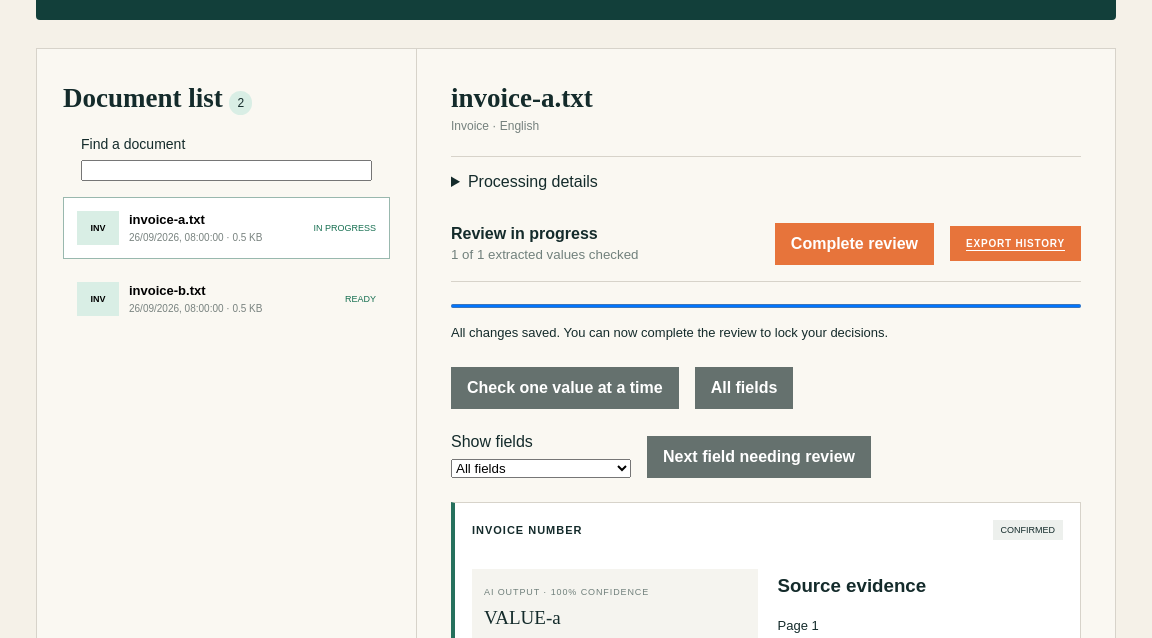
Test: document selection isolates asynchronous review work › ignores a delayed review selection after a newer document has loaded
The width and height of the screenshot is (1152, 638).
(page scrolled)
Click the button "INV invoice-b.txt 26/09/2026, 08:00:00 · 0.5 KB Ready": point(98, 299) [63, 268, 390, 330]
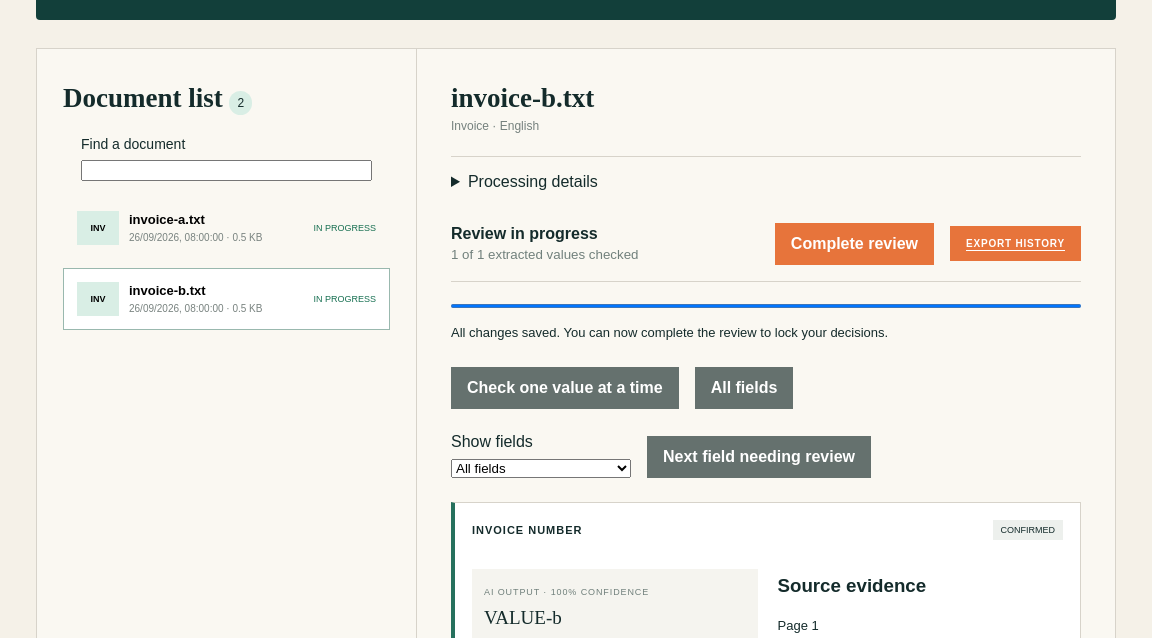
Click the button "INV invoice-a.txt 26/09/2026, 08:00:00 · 0.5 KB In progress": point(98, 228) [63, 197, 390, 259]
(page scrolled)
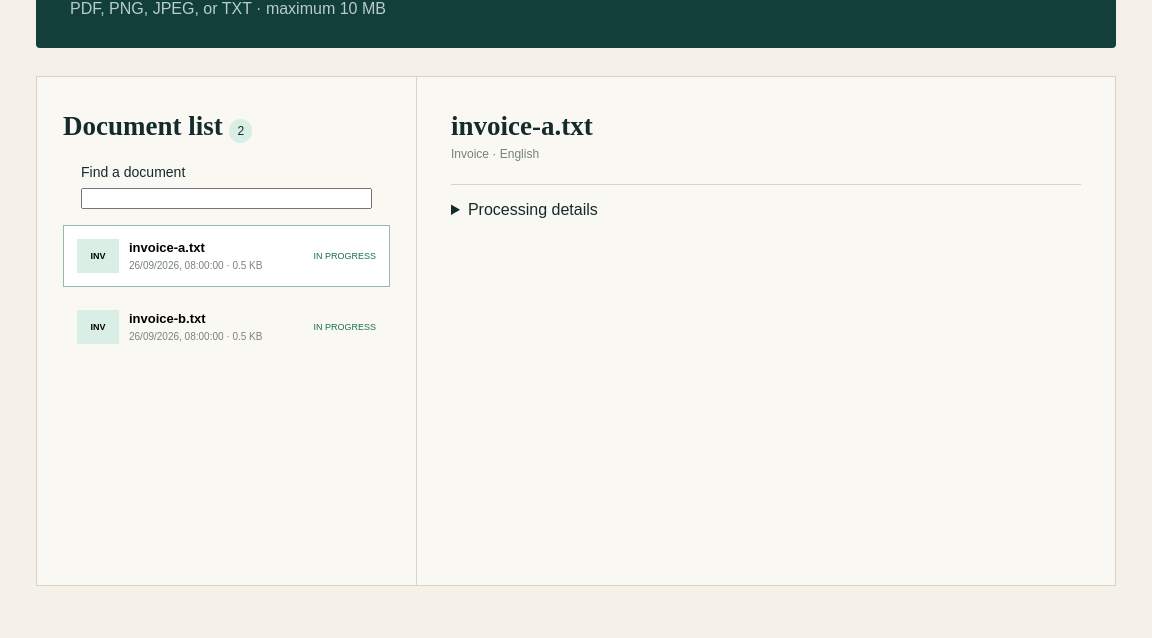
Click the button "INV invoice-b.txt 26/09/2026, 08:00:00 · 0.5 KB In progress": point(98, 327) [63, 296, 390, 358]
(page scrolled)
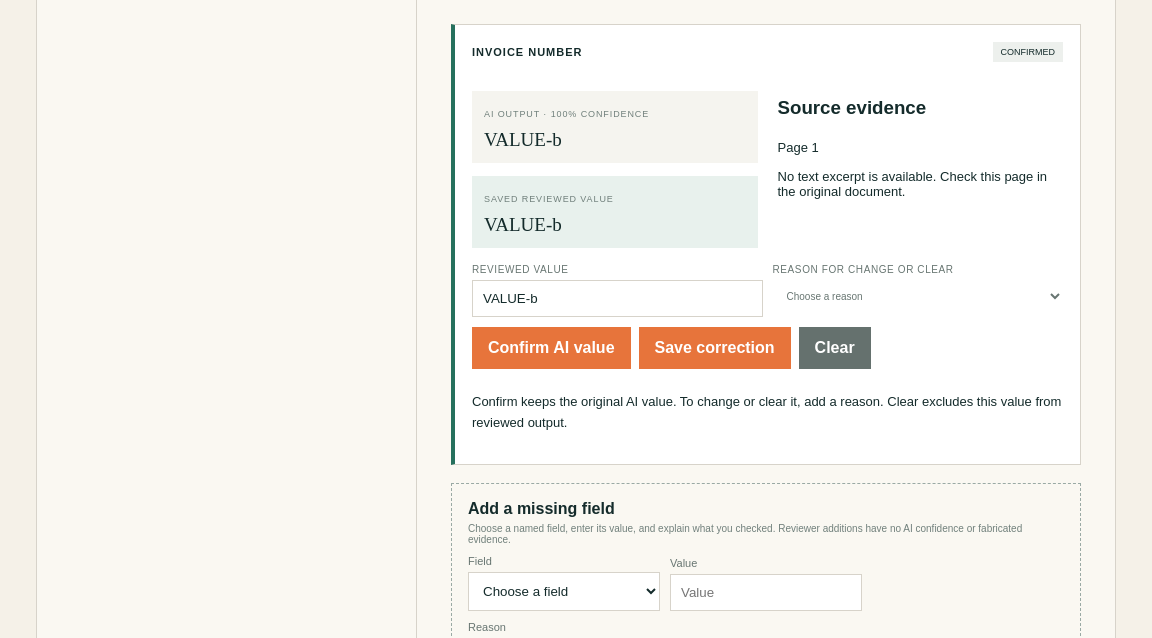
Check: the text "VALUE-a" is not shown
Check: the field labelled "Reviewed value" holds "VALUE-b", box [472, 280, 762, 317]
